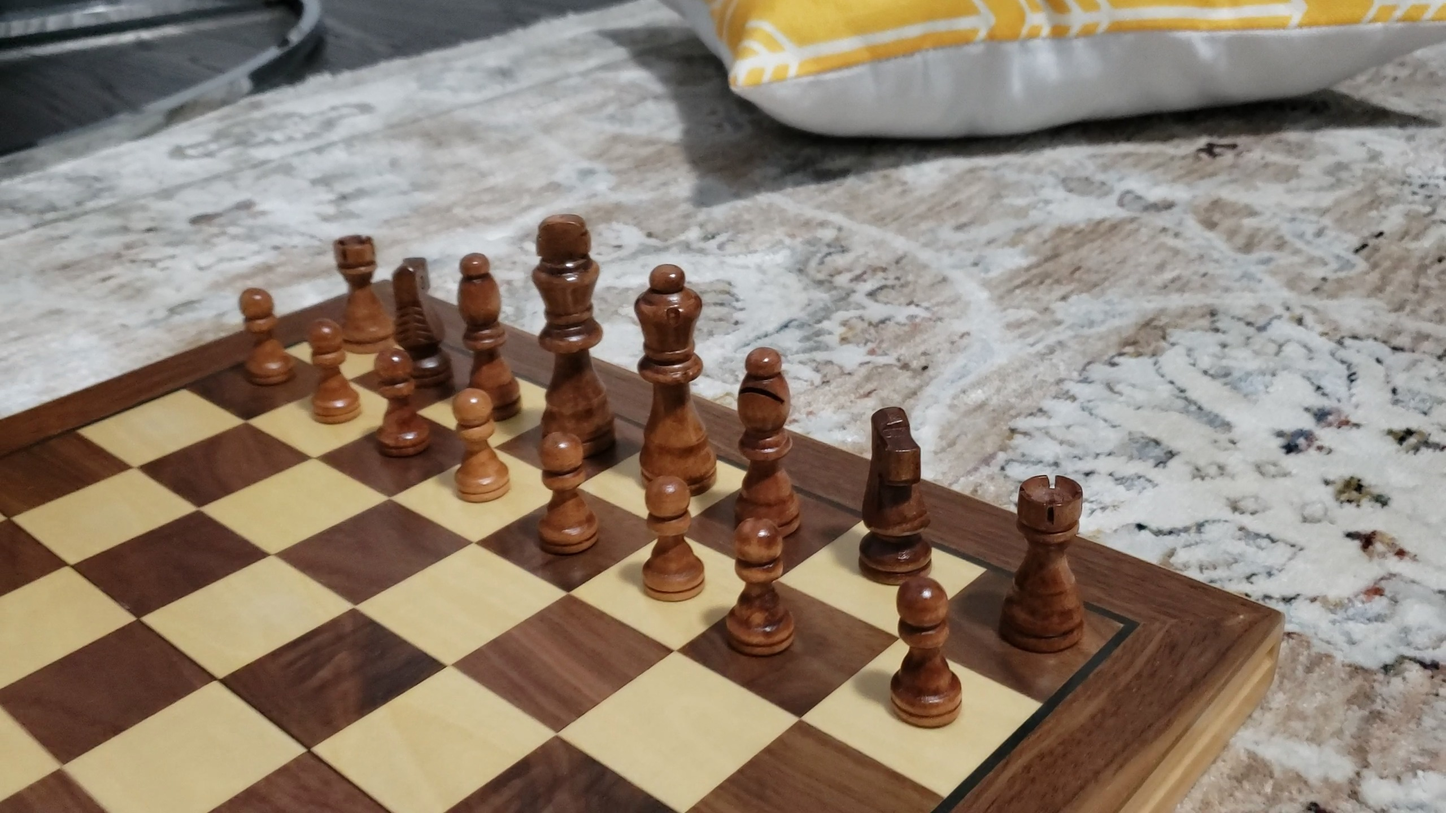black-bishop: (736, 343, 802, 538), (457, 250, 519, 418)
black-king: (529, 207, 619, 462)
black-knight: (857, 403, 929, 581), (390, 256, 450, 399)
black-pawn: (888, 574, 962, 731), (723, 512, 795, 658), (639, 473, 704, 603), (537, 429, 598, 557), (450, 385, 511, 505), (370, 346, 430, 458), (233, 284, 294, 387), (303, 317, 359, 426)
black-queen: (629, 259, 716, 496)
black-rook: (997, 471, 1087, 655), (333, 231, 390, 350)
